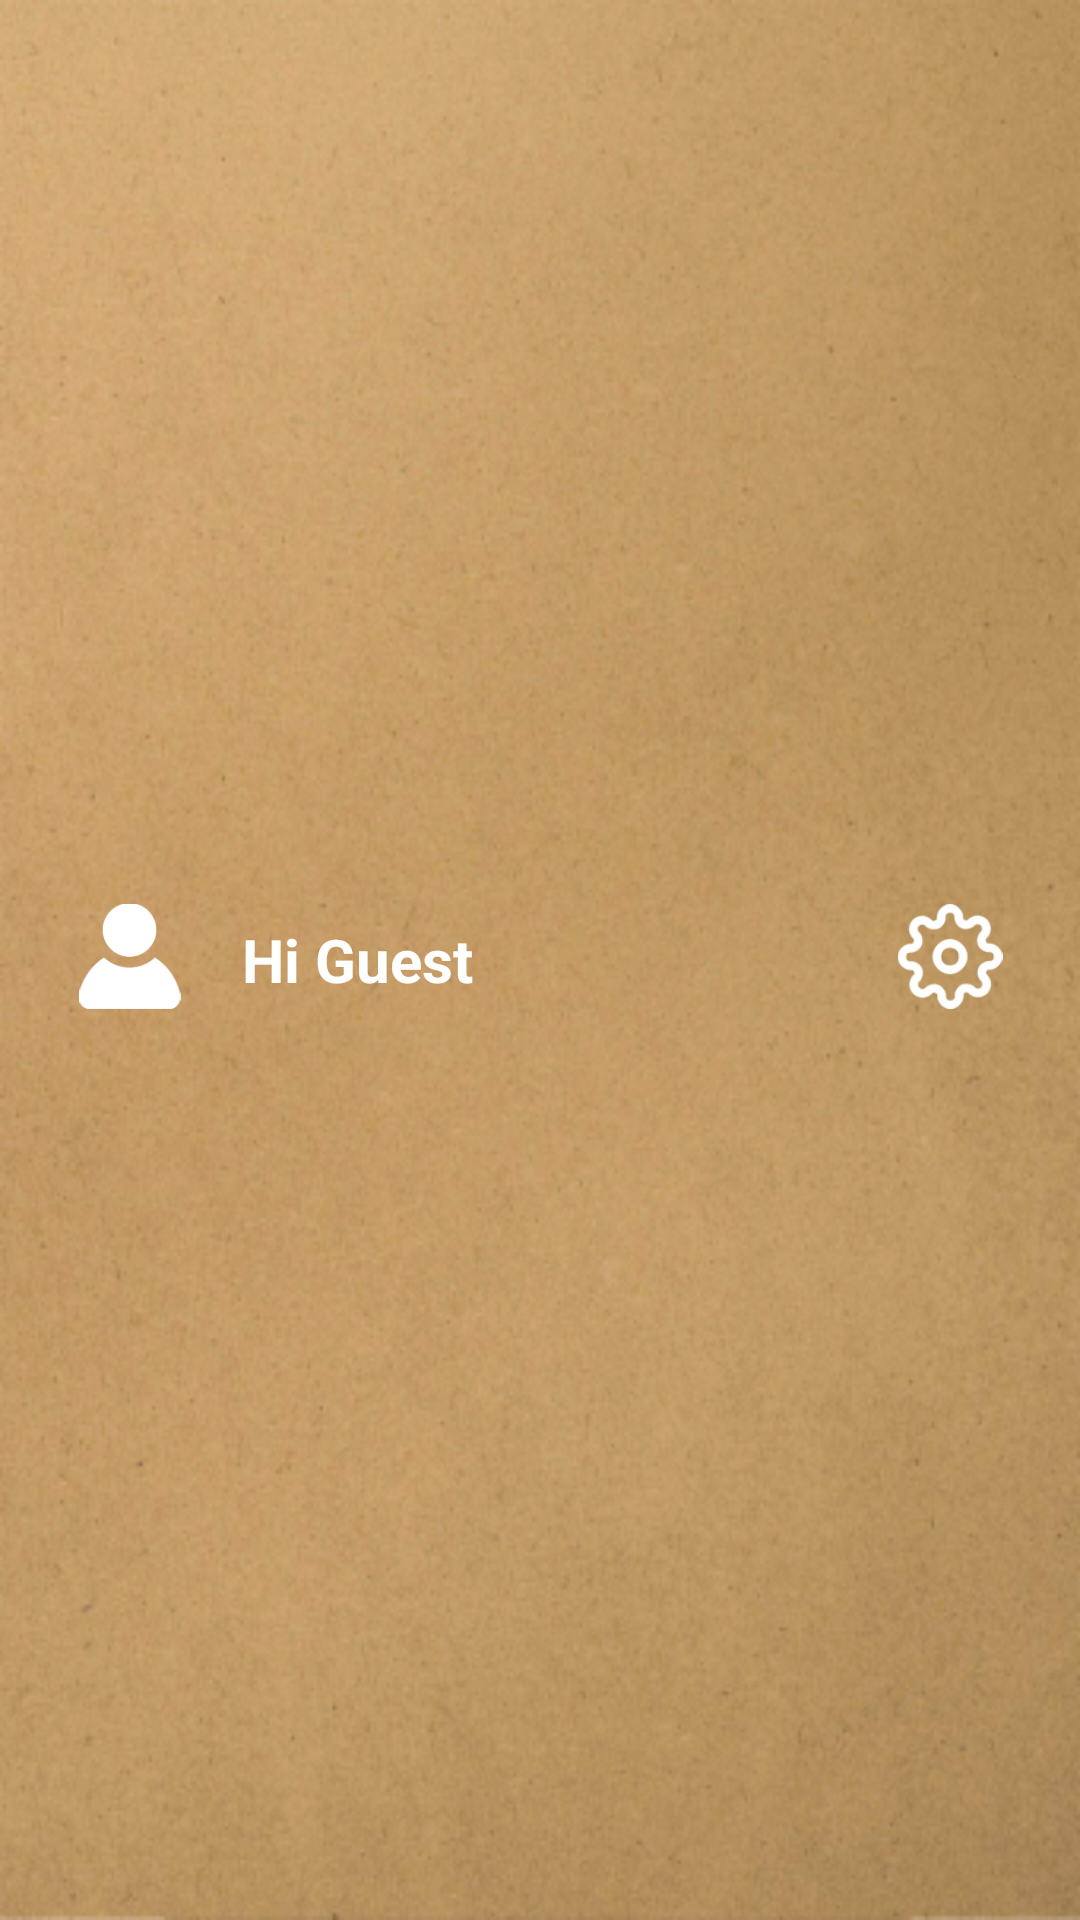

Where icons sit on this 1080x1920 app screen, as (x1,y1,x2,y2):
profile: (79,904,181,1009)
setting: (898,904,1003,1009)
